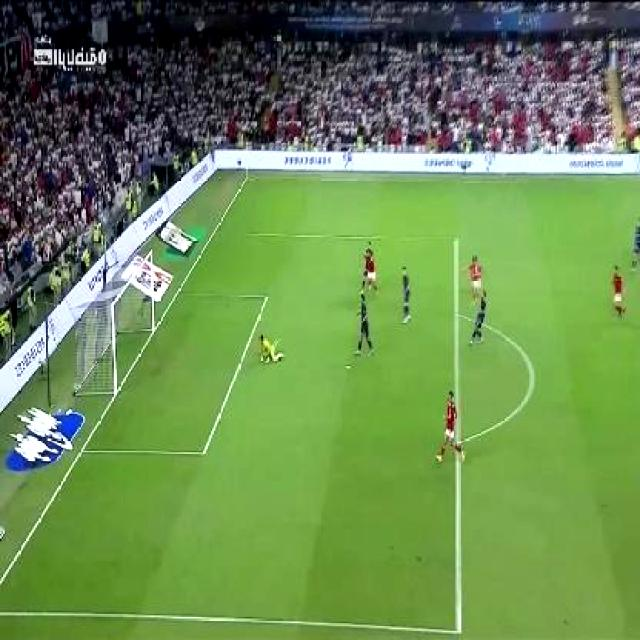bigarea_bottom_inner: (449, 614, 468, 640)
bigarea_top_inner: (446, 231, 462, 251)
bigarea_top_outter: (203, 225, 225, 243)
corner: (240, 171, 255, 186)
smallarea_bottom_inner: (198, 437, 214, 465)
smallarea_bottom_outter: (75, 440, 91, 460)
smallarea_top_inner: (255, 288, 274, 308)
smallarea_top_outter: (163, 285, 192, 306)
top_arc_area_intersection: (454, 308, 463, 322)
